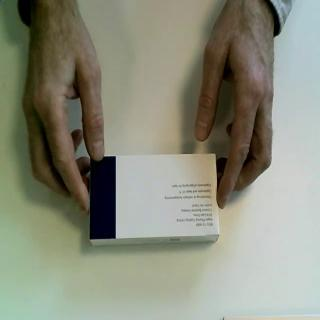ultiva5mg: (88, 152, 221, 248)
